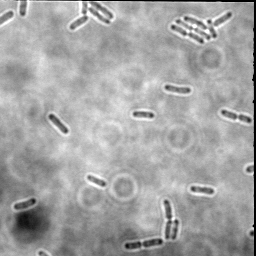Dividing: (219, 107, 253, 126), (88, 1, 115, 22), (123, 236, 163, 250), (161, 199, 174, 241), (87, 6, 111, 26)
Microcolony: (169, 11, 232, 46)
Rod: (46, 112, 71, 135), (12, 196, 38, 212), (188, 183, 216, 197), (162, 83, 192, 96), (68, 14, 90, 31), (85, 173, 108, 188), (170, 218, 181, 242), (131, 109, 155, 120)
